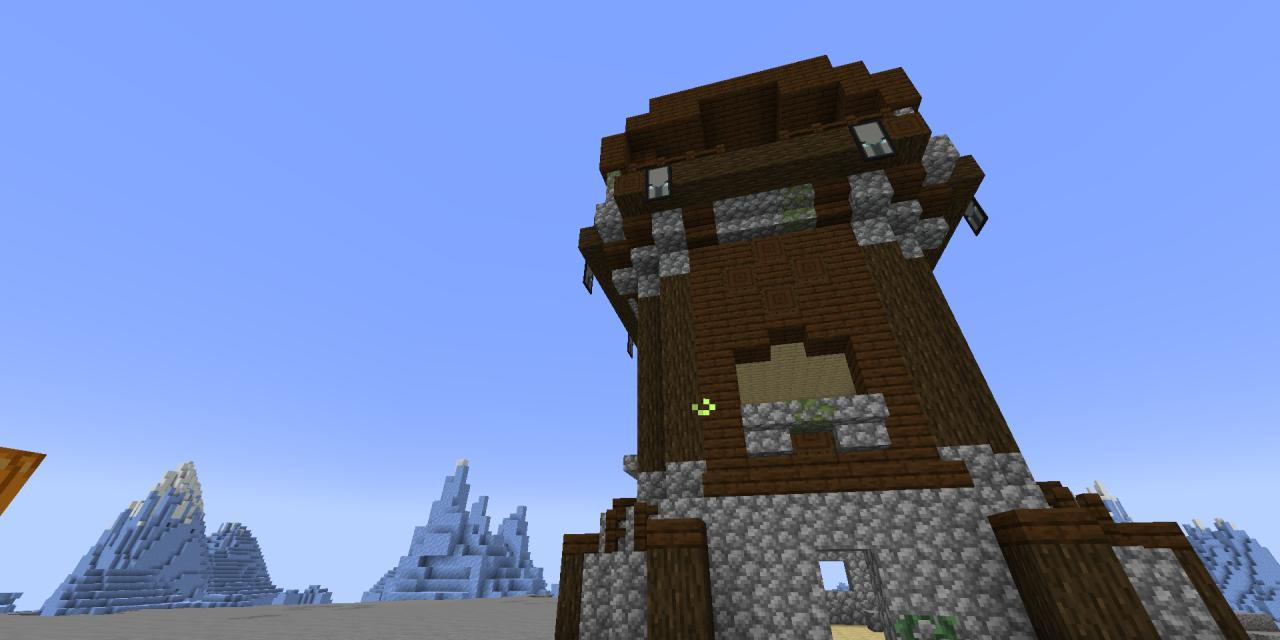pillager outpost: (548, 44, 1268, 640)
